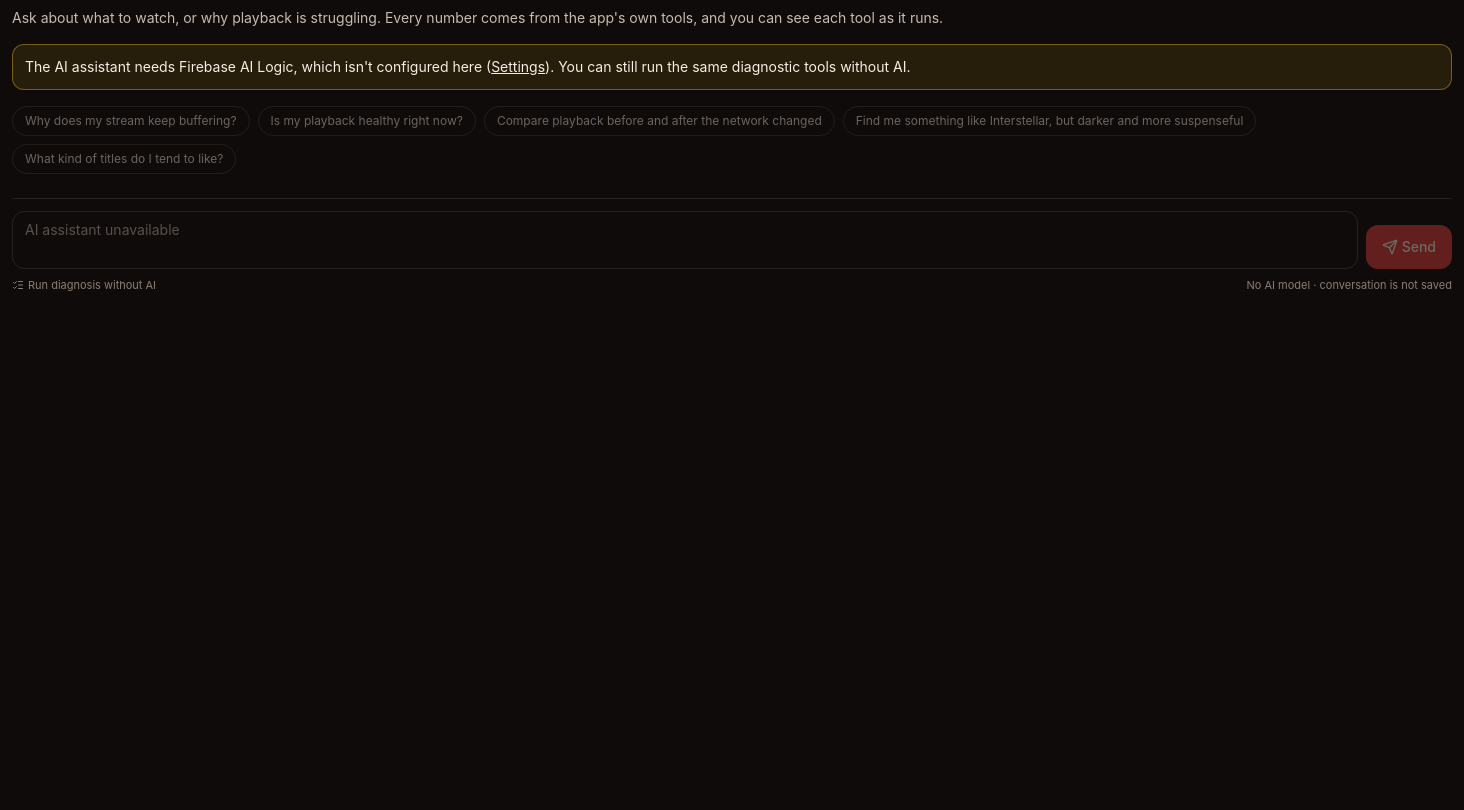
Test: AssistantChat › without Firebase, offers the rules-based diagnosis and labels it as no AI
Expected: the text "isn't configured here" is shown, [25, 58, 491, 75]
Expected: the text box named "message the streaming assistant" is disabled, [12, 211, 1358, 269]
Step 1. Click the button "Run diagnosis without AI" → (84, 285), box [12, 277, 156, 294]
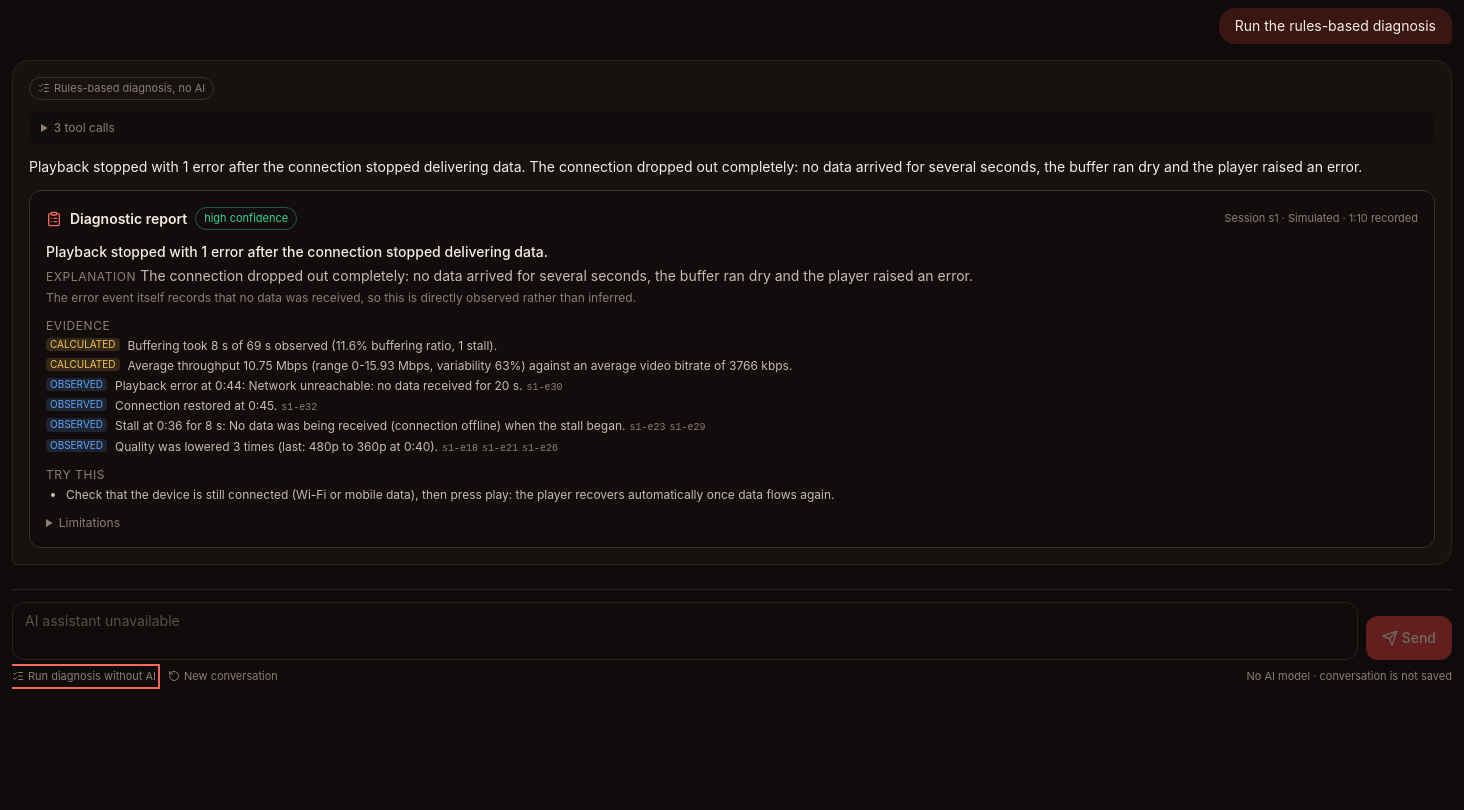
Result: the text "Rules-based diagnosis, no AI" is shown at [29, 77, 214, 100]
Result: the text "stopped with 1 error" is shown at [46, 243, 548, 260]
